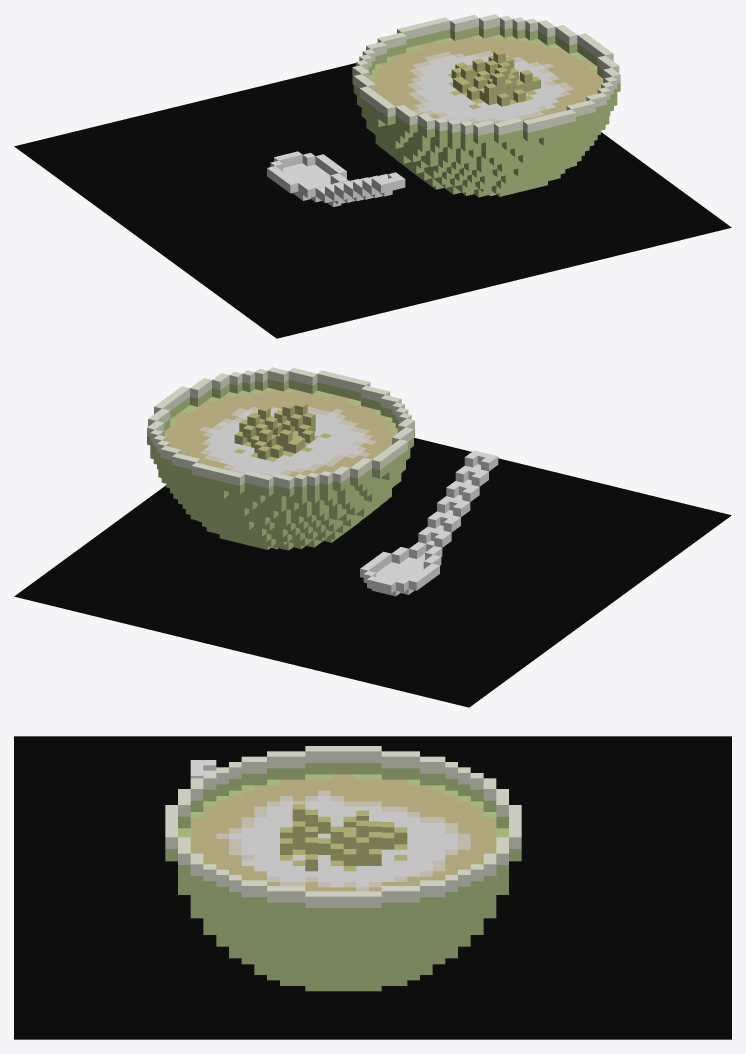
The model's file is food.glb.
The picture shows the model from 3 angles, top to bottom: view 1: azimuth 30°, elevation 25°; view 2: azimuth 150°, elevation 25°; view 3: azimuth 270°, elevation 25°; orthographic projection. The views are drawn at different scales.
Visible parts, largest first — view 1: Plane, VoxTransform.001; view 2: Plane, VoxTransform.001; view 3: Plane, VoxTransform.001.
Boxes of the visible parts, x1,y1,x2,y2 form: Plane: (14, 63, 731, 338); VoxTransform.001: (267, 14, 620, 207); Plane: (14, 438, 731, 707); VoxTransform.001: (147, 367, 498, 596); Plane: (14, 736, 731, 1039); VoxTransform.001: (165, 746, 521, 991).
Bounding box in the file's own units: 14.1 × 3.25 × 14.1.
Materials: 8 (1 with a texture image).
